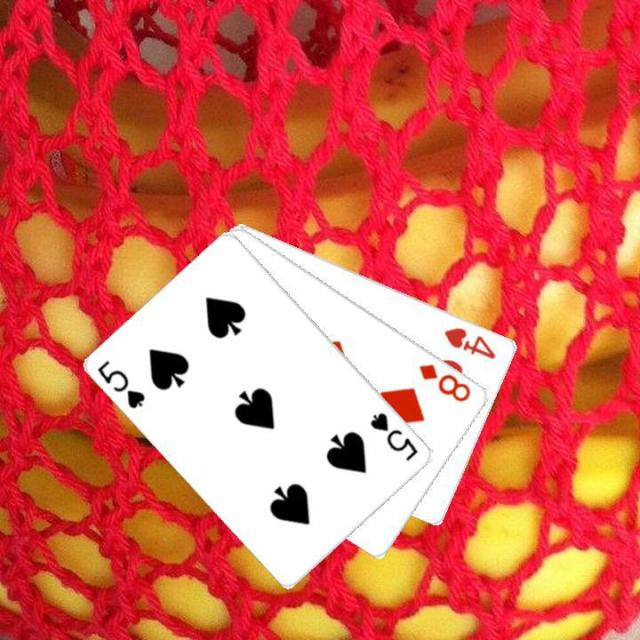4H: (440, 323, 499, 361)
5S: (366, 408, 421, 463), (94, 356, 148, 412)
8D: (415, 359, 474, 404)
